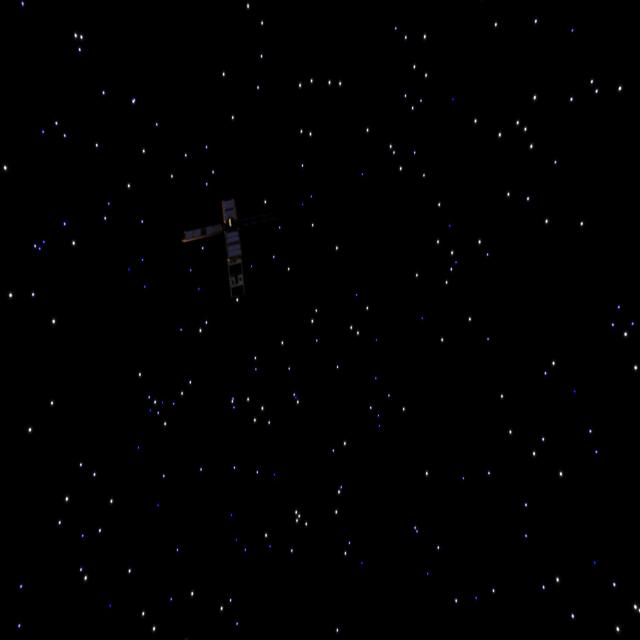satellite: (179, 194, 264, 298)
